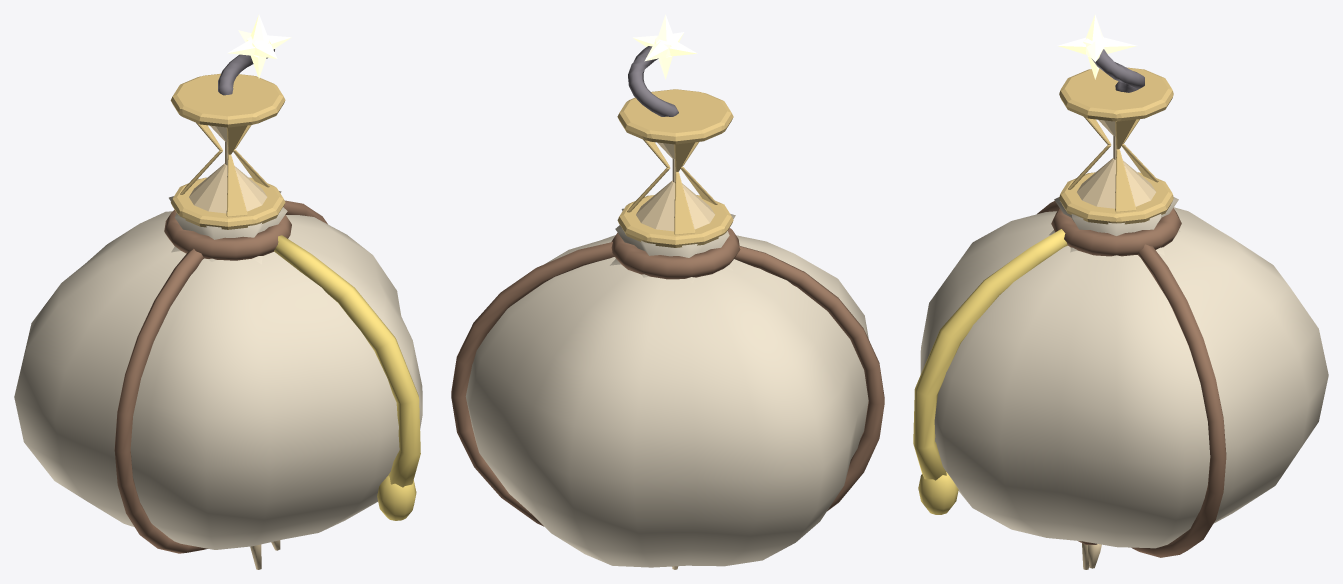
The model's file is Kit_SandBomb.fbx.
The picture shows the model from 3 angles, left to right: view 1: azimuth 30°, elevation 25°; view 2: azimuth 150°, elevation 25°; view 3: azimuth 270°, elevation 25°; orthographic projection.
Parts seen in each view (by area): view 1: Kit_SandBomb; view 2: Kit_SandBomb; view 3: Kit_SandBomb.
Part boxes in pixels (x1,y1,x2,y2): Kit_SandBomb: (14,14,422,569); Kit_SandBomb: (451,14,884,569); Kit_SandBomb: (913,14,1328,569).
Size of the model in its own units: 0.3697 by 0.54 by 0.3647.
